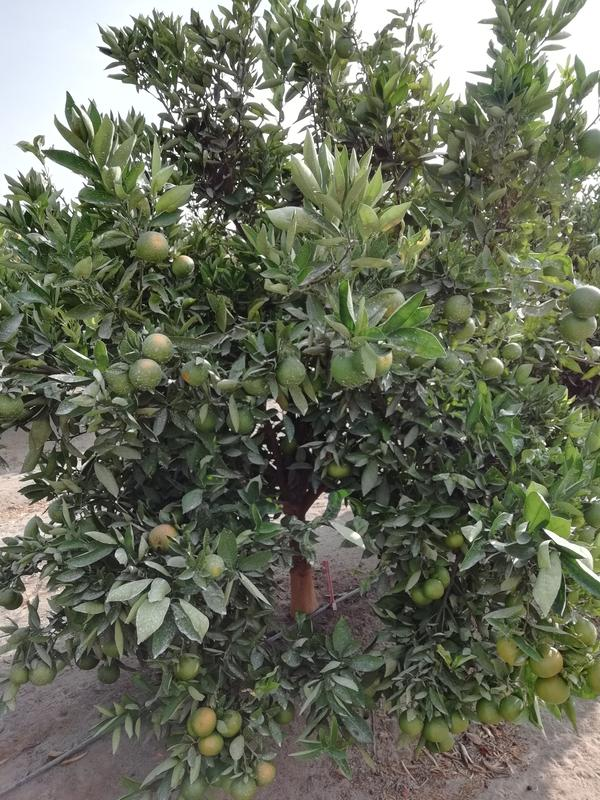mandarina verde: (530, 644, 564, 677), (560, 312, 597, 342), (536, 674, 571, 705), (142, 333, 175, 365), (136, 231, 168, 263), (129, 358, 161, 390), (105, 362, 137, 394), (185, 706, 217, 738), (276, 356, 307, 388), (568, 286, 600, 317), (497, 635, 529, 665), (446, 294, 474, 324), (29, 660, 58, 687), (476, 698, 506, 724), (182, 771, 209, 799), (218, 709, 244, 737), (230, 774, 257, 800), (578, 129, 600, 159), (174, 656, 200, 681), (425, 717, 450, 743), (450, 317, 476, 342), (198, 733, 225, 757), (501, 695, 524, 722), (254, 761, 276, 787), (229, 409, 255, 431), (400, 710, 423, 734), (172, 254, 193, 278), (450, 709, 469, 735), (481, 357, 503, 378), (411, 584, 432, 606), (98, 662, 119, 683), (424, 578, 444, 600), (203, 554, 223, 576), (10, 662, 29, 685), (335, 36, 354, 59), (328, 462, 352, 478), (433, 566, 449, 589), (503, 343, 521, 360), (446, 535, 464, 547)
